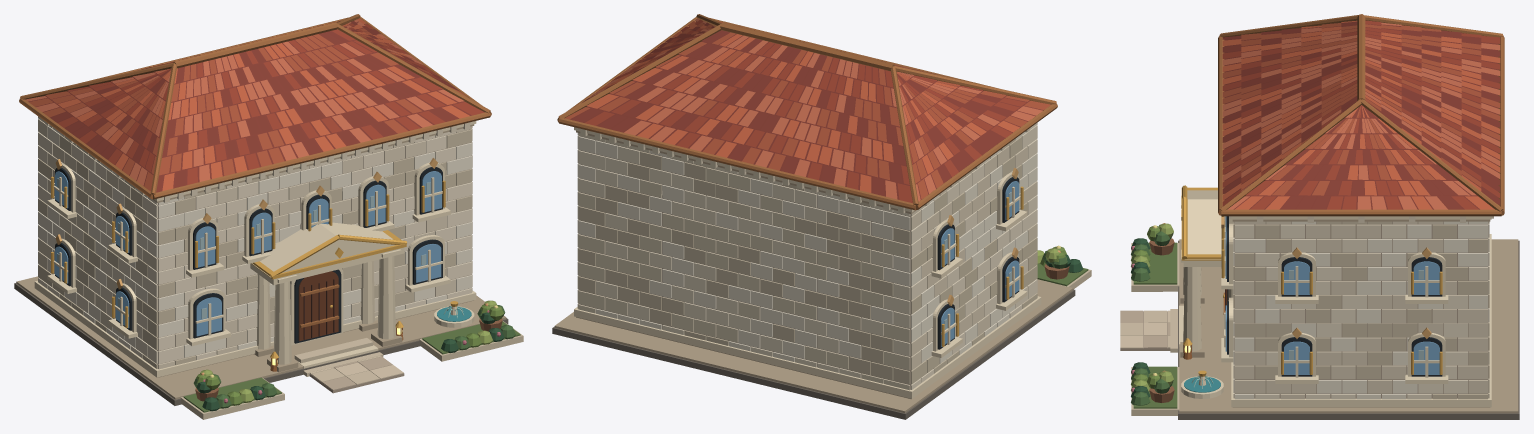
File: noble-nivel-7.glb
3 views of the same model, side by side, from view 1: azimuth 30°, elevation 25°; view 2: azimuth 150°, elevation 25°; view 3: azimuth 270°, elevation 25° (orthographic). The views are drawn at different scales.
Visible parts, largest first — view 1: Casa nobre 07 #e6d7ba, Casa nobre 07 #853e33, Casa nobre 07 #e8dcc5, Casa nobre 07 #eae1ce, Casa nobre 07 #ded1b9, Casa nobre 07 #cec1a8, Casa nobre 07 #a76e42, Casa nobre 07 #c06b4f, Casa nobre 07 #9b4735, Casa nobre 07 #b4a38a, Casa nobre 07 #a8563c, Casa nobre 07 #bf6243 (+17 smaller); view 2: Casa nobre 07 #ded1b9, Casa nobre 07 #eae1ce, Casa nobre 07 #cec1a8, Casa nobre 07 #853e33, Casa nobre 07 #e8dcc5, Casa nobre 07 #9b4735, Casa nobre 07 #a76e42, Casa nobre 07 #c06b4f, Casa nobre 07 #b4a38a, Casa nobre 07 #e6d7ba, Casa nobre 07 #a8563c, Casa nobre 07 #bf6243 (+5 smaller); view 3: Casa nobre 07 #853e33, Casa nobre 07 #e6d7ba, Casa nobre 07 #ded1b9, Casa nobre 07 #b4a38a, Casa nobre 07 #cec1a8, Casa nobre 07 #c06b4f, Casa nobre 07 #9b4735, Casa nobre 07 #bf6243, Casa nobre 07 #eae1ce, Casa nobre 07 #a76e42, Casa nobre 07 #a8563c, Casa nobre 07 #e8dcc5 (+15 smaller).
Part boxes in pixels (x1,y1,x2,y2): Casa nobre 07 #e6d7ba: (34,121,476,377); Casa nobre 07 #853e33: (28,20,471,192); Casa nobre 07 #e8dcc5: (38,129,472,363); Casa nobre 07 #eae1ce: (38,126,472,357); Casa nobre 07 #ded1b9: (38,116,472,369); Casa nobre 07 #cec1a8: (38,129,472,368); Casa nobre 07 #a76e42: (19,14,491,371); Casa nobre 07 #c06b4f: (25,19,463,185); Casa nobre 07 #9b4735: (57,22,484,184); Casa nobre 07 #b4a38a: (16,124,506,399); Casa nobre 07 #a8563c: (29,21,433,191); Casa nobre 07 #bf6243: (58,18,469,190); Casa nobre 07 #ded1b9: (577,128,1037,390); Casa nobre 07 #eae1ce: (577,132,1037,363); Casa nobre 07 #cec1a8: (577,136,1037,384); Casa nobre 07 #853e33: (570,21,1043,199); Casa nobre 07 #e8dcc5: (577,122,1037,389); Casa nobre 07 #9b4735: (584,19,1025,203); Casa nobre 07 #a76e42: (557,14,1057,210); Casa nobre 07 #c06b4f: (589,18,1042,201); Casa nobre 07 #b4a38a: (554,130,1073,413); Casa nobre 07 #e6d7ba: (574,127,1041,398); Casa nobre 07 #a8563c: (565,22,1050,199); Casa nobre 07 #bf6243: (586,21,1019,192); Casa nobre 07 #853e33: (1222,21,1500,209); Casa nobre 07 #e6d7ba: (1179,190,1491,407); Casa nobre 07 #ded1b9: (1229,216,1493,399); Casa nobre 07 #b4a38a: (1179,219,1518,413); Casa nobre 07 #cec1a8: (1233,221,1489,399); Casa nobre 07 #c06b4f: (1222,22,1500,209); Casa nobre 07 #9b4735: (1222,20,1500,209); Casa nobre 07 #bf6243: (1222,20,1500,209); Casa nobre 07 #eae1ce: (1233,221,1489,399); Casa nobre 07 #a76e42: (1183,14,1504,359); Casa nobre 07 #a8563c: (1222,23,1500,206); Casa nobre 07 #e8dcc5: (1233,224,1489,399).
Size of the model in its own units: 9.65 by 7.04 by 9.17.
